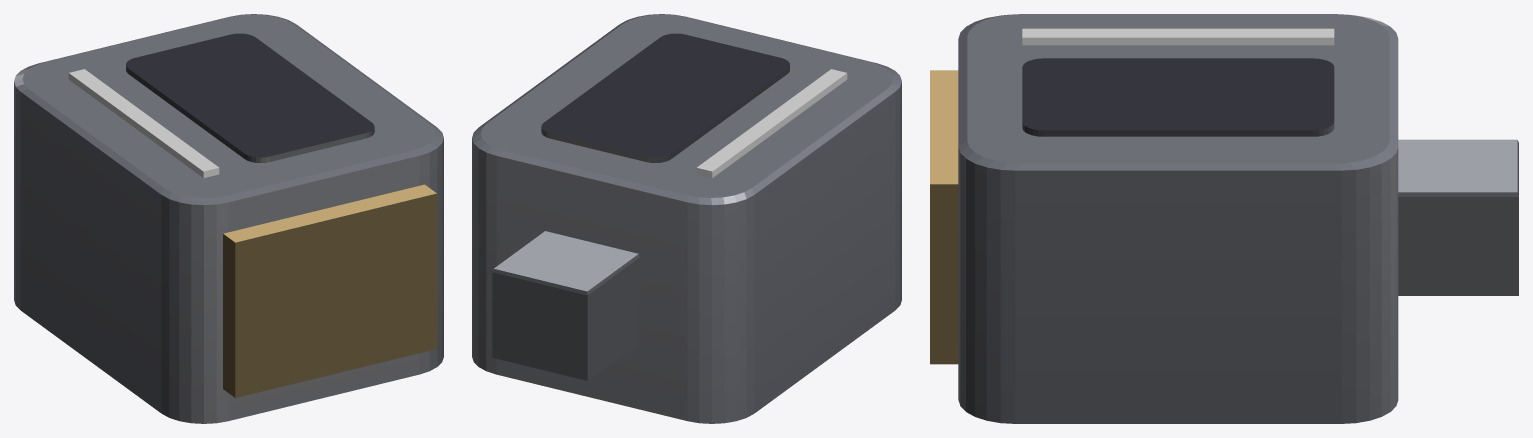
File: pin_counter.glb
The picture shows the model from 3 angles, left to right: view 1: azimuth 30°, elevation 25°; view 2: azimuth 150°, elevation 25°; view 3: azimuth 270°, elevation 25°; orthographic projection. The views are drawn at different scales.
Parts seen in each view (by area): view 1: Korpus, Licht; view 2: Korpus, Licht; view 3: Korpus, Licht.
Part boxes in pixels (x1,y1,x2,y2): Korpus: (14, 14, 443, 423); Licht: (68, 69, 219, 178); Korpus: (472, 14, 901, 423); Licht: (696, 69, 847, 178); Korpus: (930, 14, 1518, 423); Licht: (1022, 28, 1334, 45).
Bounding box in the file's own units: 0.52 × 0.412 × 0.83.
